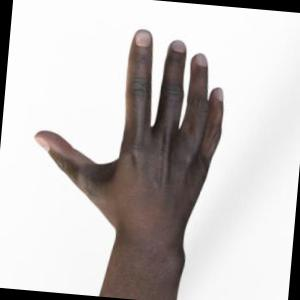paper: (35, 29, 222, 300)
